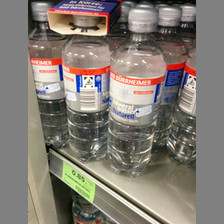water: (107, 7, 163, 178), (59, 8, 109, 163), (30, 2, 66, 149)
